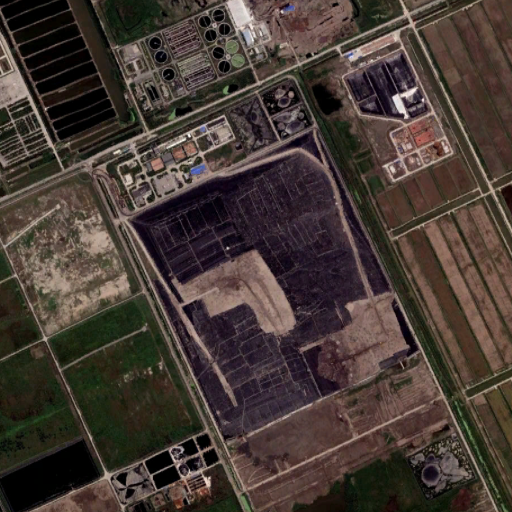lf: (123, 131, 422, 443)
